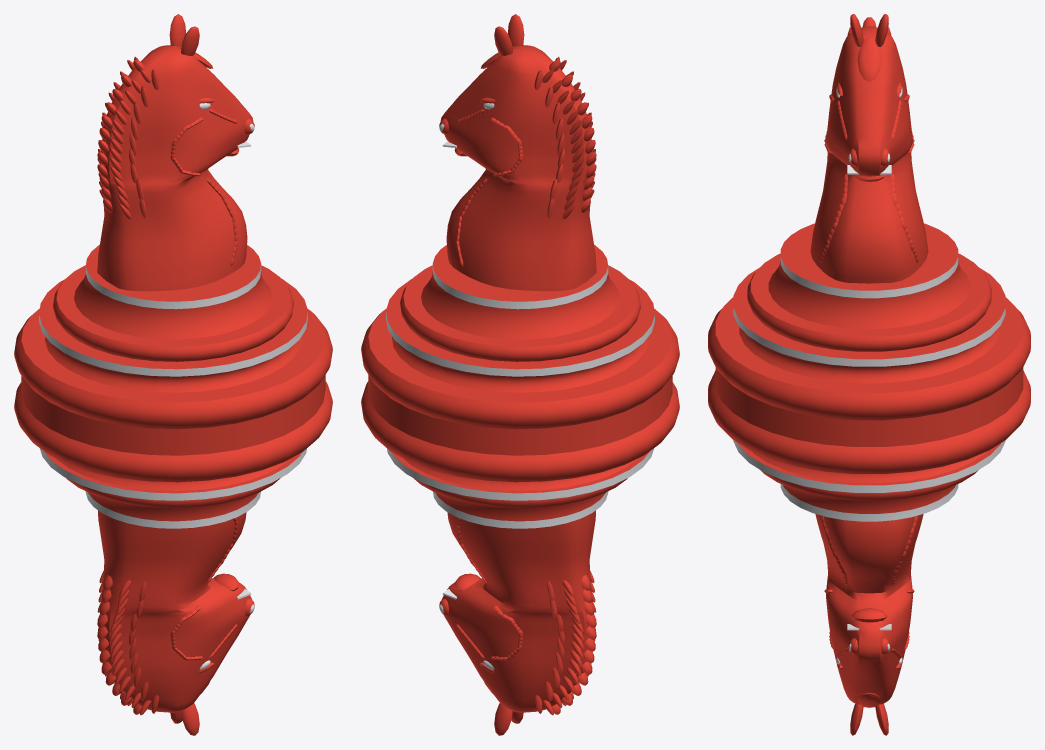
The model's file is knight-classic.glb.
The picture shows the model from 3 angles, left to right: view 1: azimuth 30°, elevation 25°; view 2: azimuth 150°, elevation 25°; view 3: azimuth 270°, elevation 25°; orthographic projection.
Parts seen in each view (by area): view 1: knight-classic; view 2: knight-classic; view 3: knight-classic.
Part boxes in pixels (bbox=[...]): knight-classic: bbox=[14, 14, 332, 735]; knight-classic: bbox=[361, 14, 679, 735]; knight-classic: bbox=[708, 14, 1030, 735].
Size of the model in its own units: 0.4664 by 1.15 by 0.4664.
